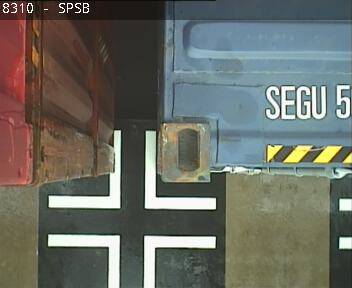groundmarker_1: (47, 130, 216, 210), (47, 233, 215, 288)
